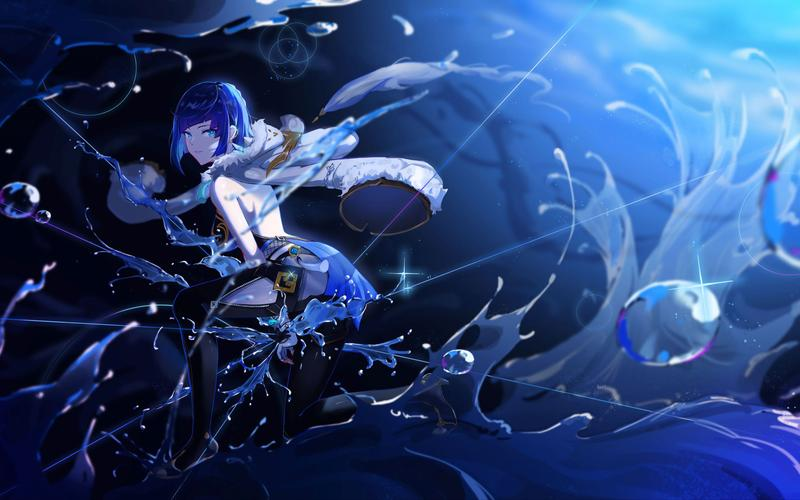夜兰: (160, 80, 329, 480)
